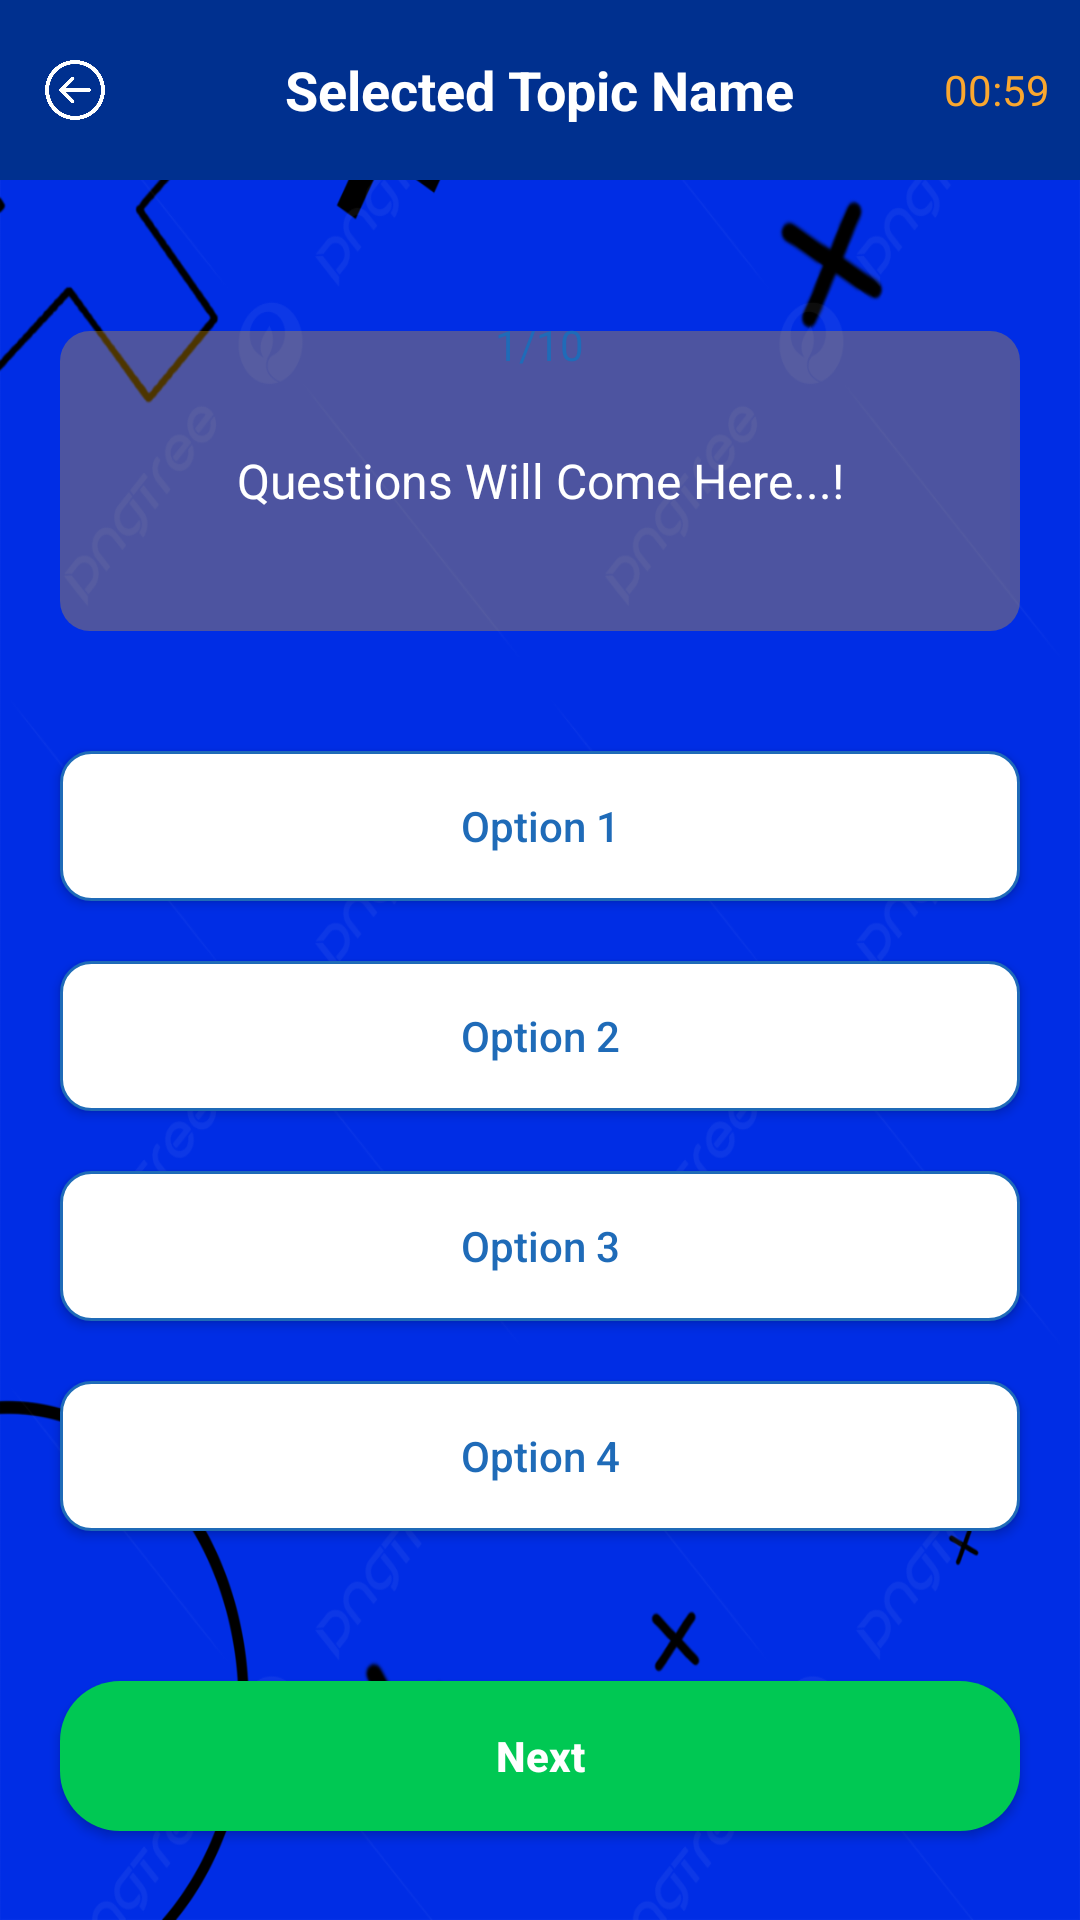

Where to tap for icons on this 1080x1920 app screen, as (x,y):
back: (75,90)
